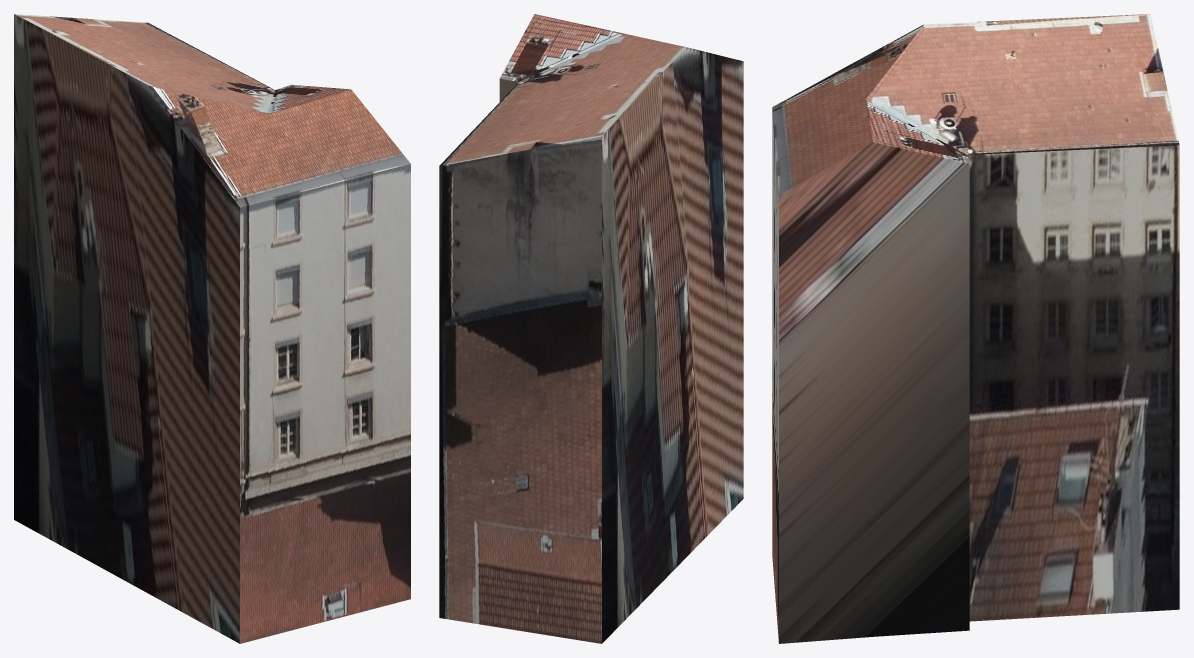
The picture shows the model from 3 angles, left to right: view 1: azimuth 30°, elevation 25°; view 2: azimuth 150°, elevation 25°; view 3: azimuth 270°, elevation 25°; orthographic projection. The views are drawn at different scales.
Parts seen in each view (by area): view 1: Z_UP; view 2: Z_UP; view 3: Z_UP.
Part boxes in pixels (box(x1,y1,x2,y2)): Z_UP: box(14, 14, 410, 643); Z_UP: box(439, 14, 743, 643); Z_UP: box(772, 14, 1179, 643).
Size of the model in its own units: 11.82 by 26.54 by 18.7.
Materials: 2 (1 with a texture image).
